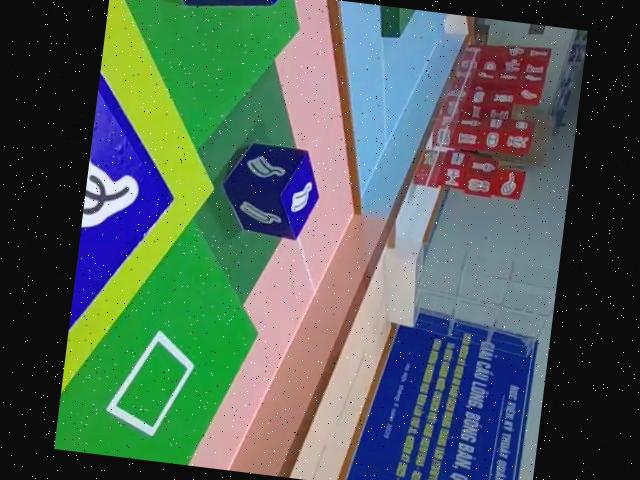R2 Real Blue: (65, 58, 188, 359), (216, 137, 325, 242), (117, 0, 310, 24)
